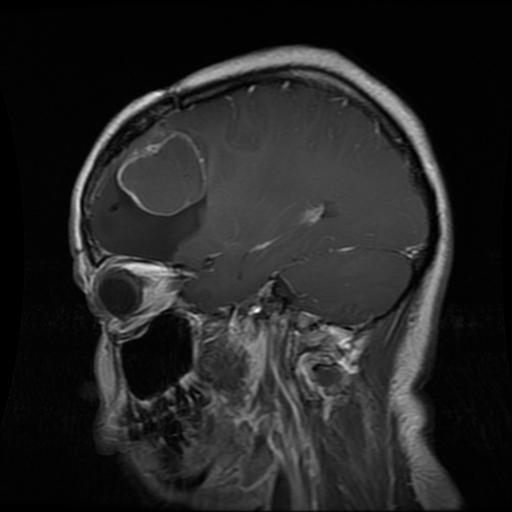Gliomia_tumour: (87, 131, 208, 261)
